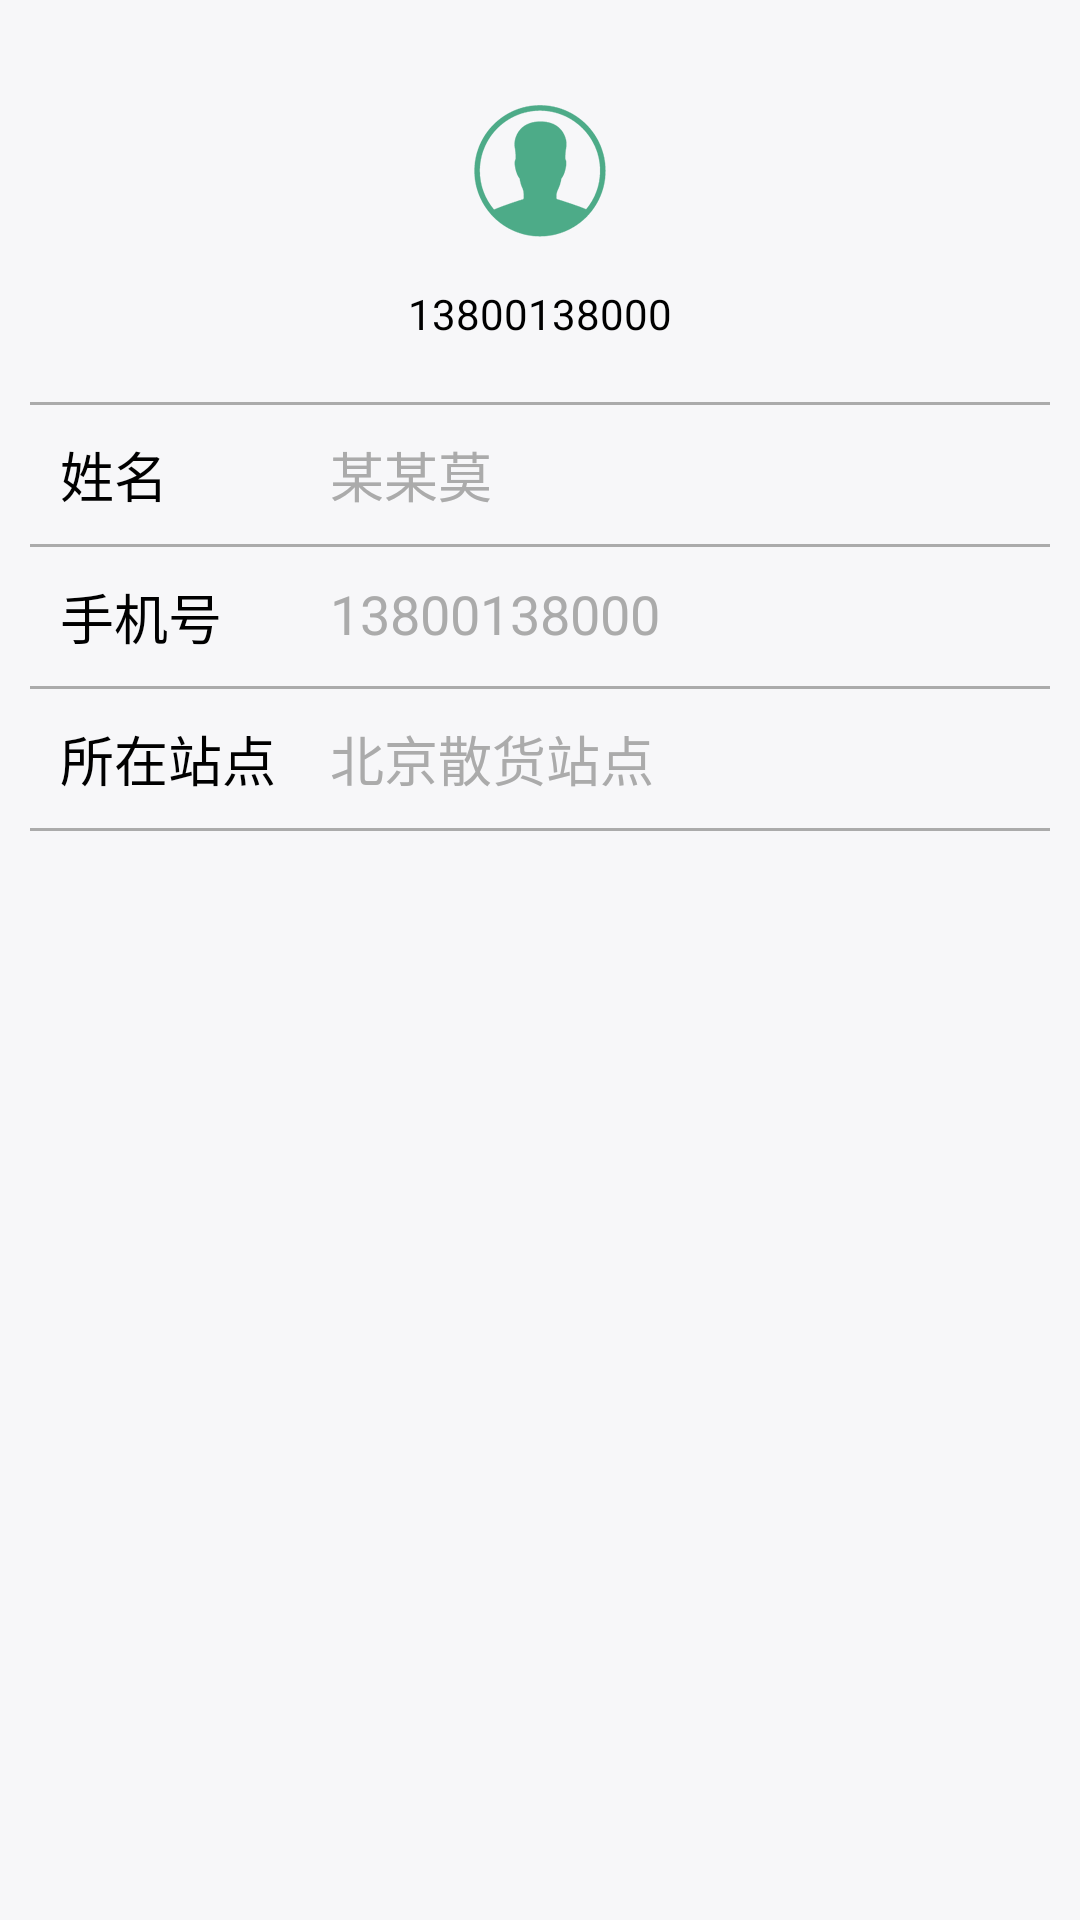

Icons on this 1080×1920 Android screen, each with its box as detection(x1, y1, x2, y2):
head slid: detection(474, 105, 606, 237)
